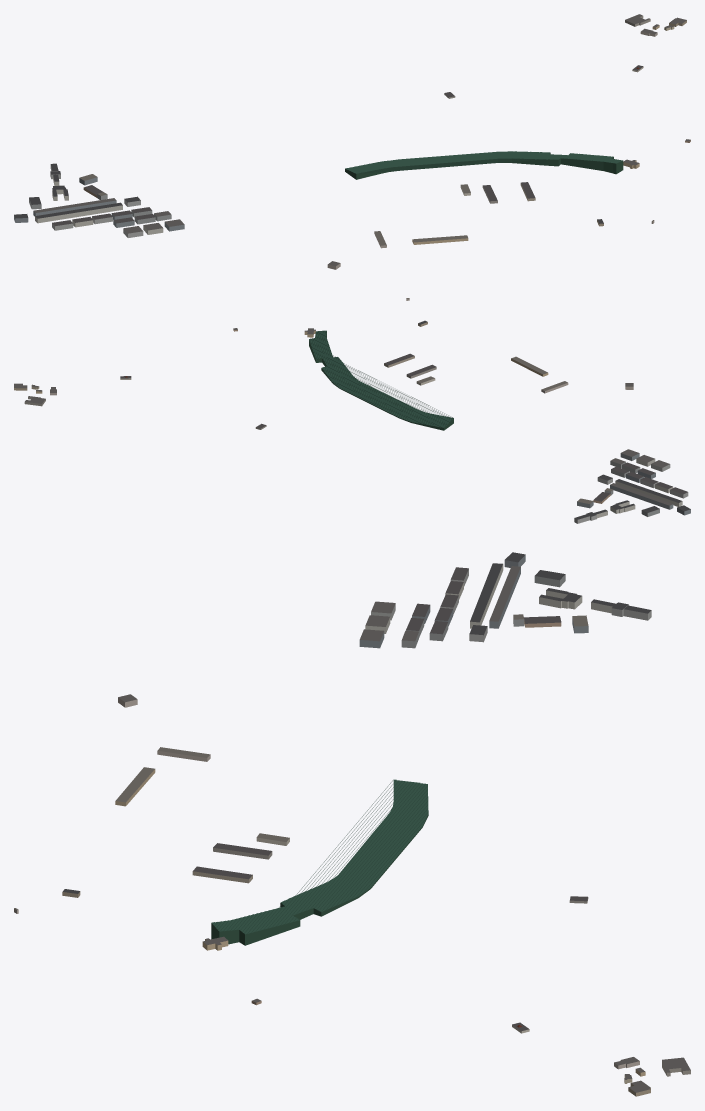
The model's file is scenery.glb.
3 views of the same model, one above another, from view 1: azimuth 30°, elevation 25°; view 2: azimuth 150°, elevation 25°; view 3: azimuth 270°, elevation 25° (orthographic). The views are drawn at different scales.
Parts seen in each view (by area): view 1: chunk_12_13, chunk_15_14, chunk_14_14, chunk_17_12; view 2: chunk_15_14, chunk_12_13, chunk_14_14, chunk_17_12; view 3: chunk_15_14, chunk_12_13, chunk_14_14, chunk_17_12.
Part boxes in pixels (left/top/right/bottom): chunk_12_13: left=14, top=174, right=184, bottom=237; chunk_15_14: left=345, top=151, right=623, bottom=203; chunk_14_14: left=374, top=184, right=470, bottom=248; chunk_17_12: left=625, top=14, right=686, bottom=36; chunk_15_14: left=309, top=330, right=453, bottom=430; chunk_12_13: left=577, top=449, right=690, bottom=516; chunk_14_14: left=416, top=356, right=568, bottom=393; chunk_17_12: left=14, top=383, right=56, bottom=406; chunk_15_14: left=192, top=779, right=428, bottom=945; chunk_12_13: left=359, top=552, right=588, bottom=648; chunk_14_14: left=115, top=747, right=289, bottom=845; chunk_17_12: left=614, top=1057, right=690, bottom=1096.
Size of the model in its own units: 2200 by 35.53 by 1180.
